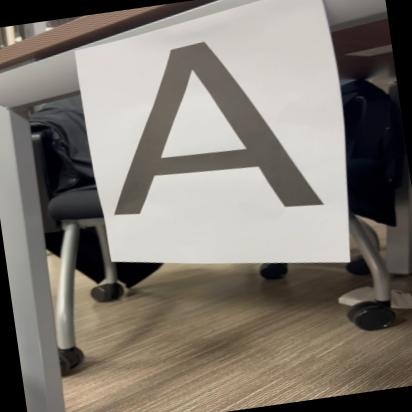seat: (91, 20, 342, 243)
